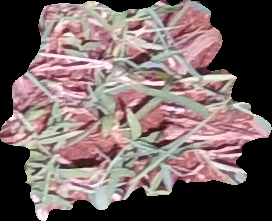grass: (1, 1, 271, 220)
